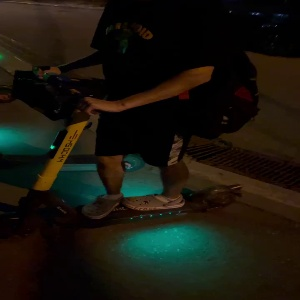human on a scooter: (1, 1, 242, 239)
